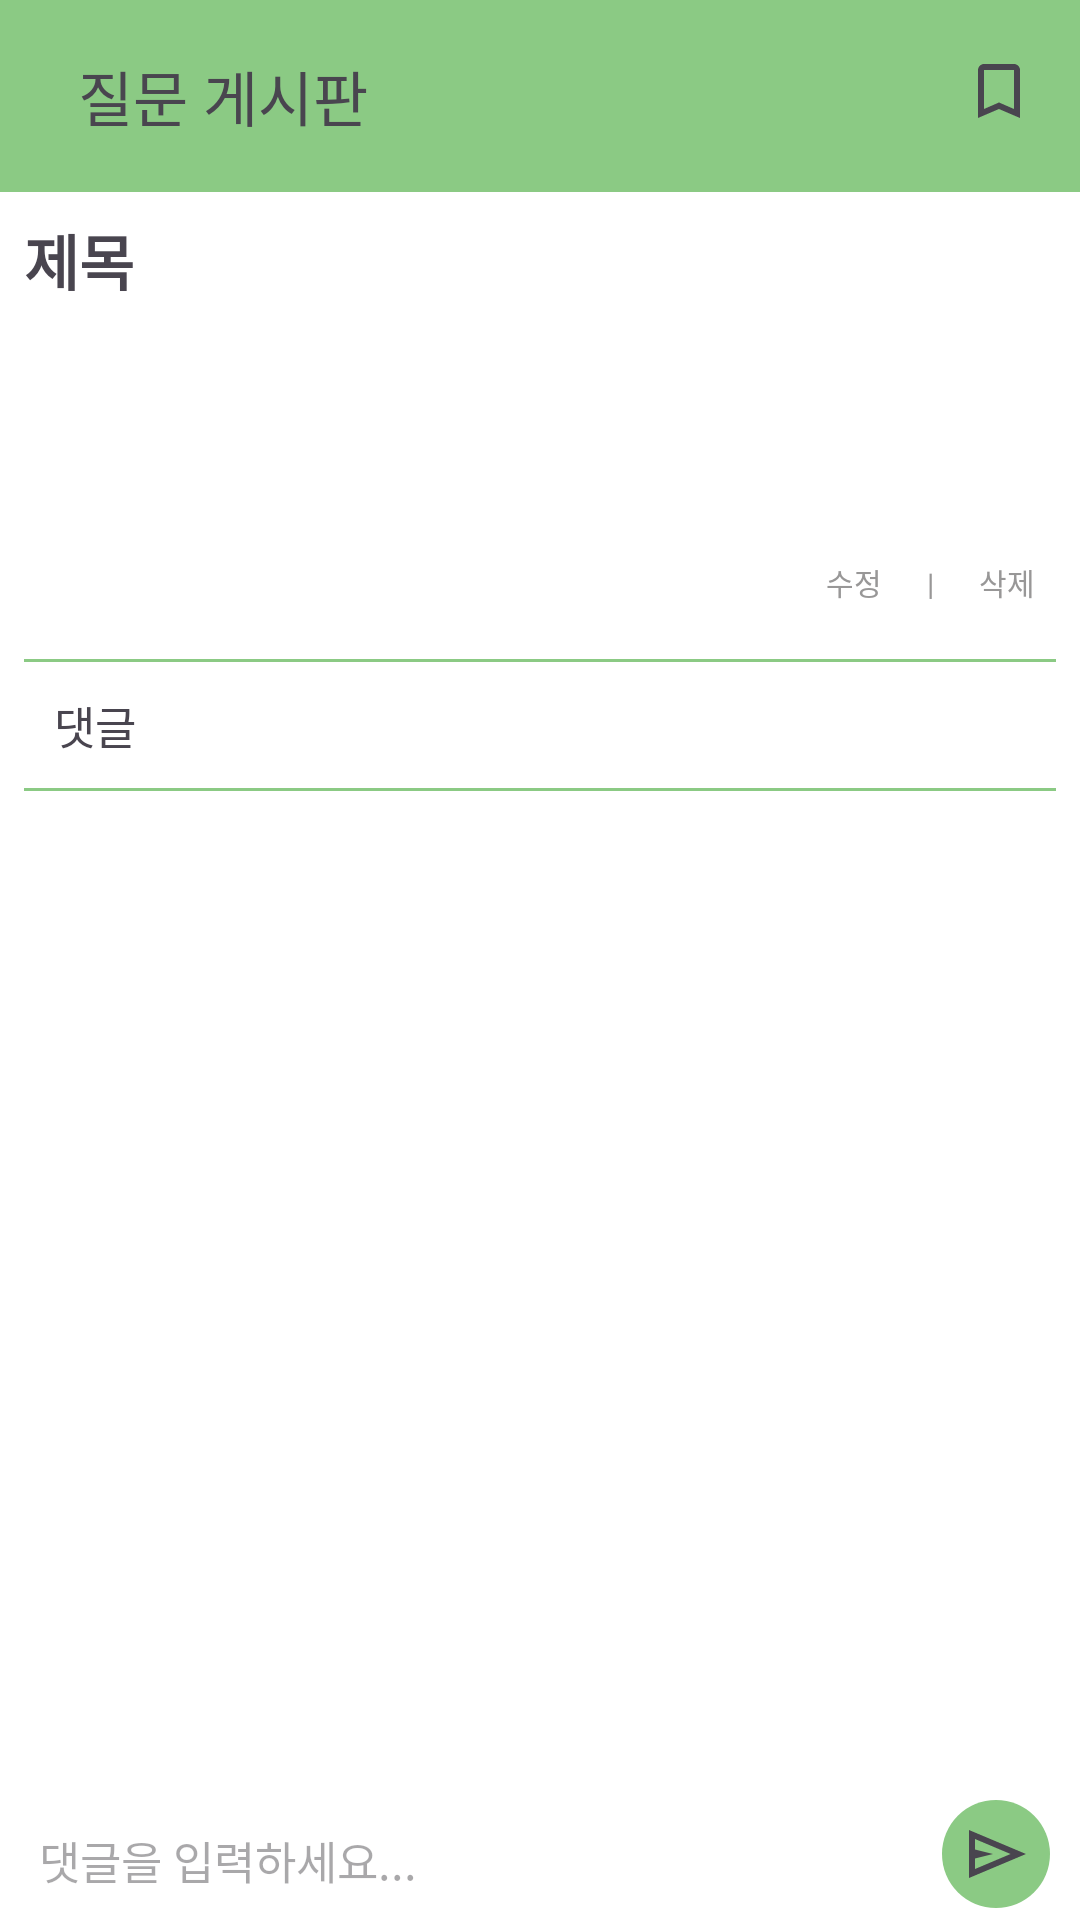

Icons on this 1080 x 1920 Android screen, each with its box as (x1, y1, x2, y2):
bookmark: (978, 64, 1020, 118)
send: (942, 1800, 1050, 1908)
